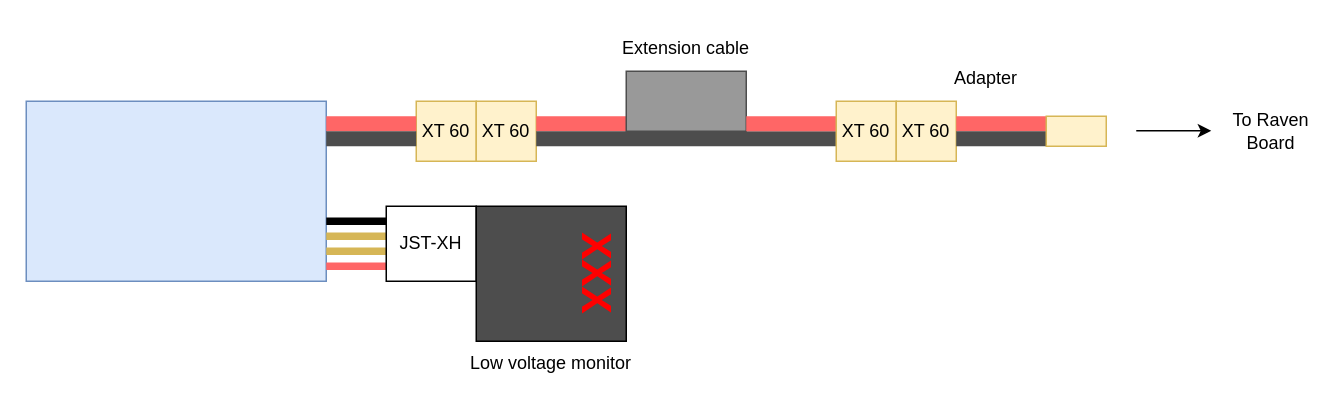
Image size: 1343x411. Some labels were removed from this diagram. Each missing label, with the centre of its shape:
"Battery" goes at point (175, 190).
"Fuse" goes at point (685, 100).
"XT 30" goes at point (1075, 130).
